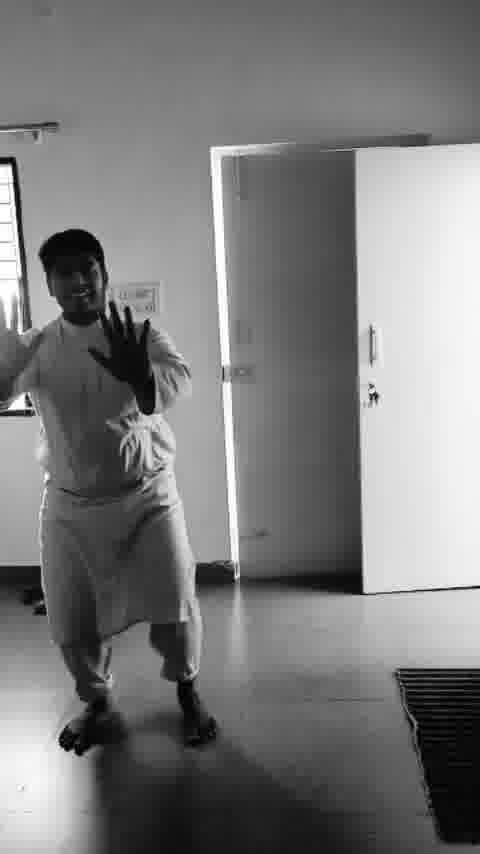duck: (11, 224, 236, 762)
